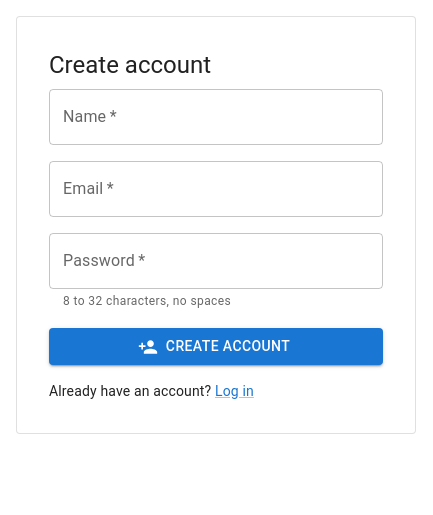
CreatePage › shows the conflict message when the email is taken
The width and height of the screenshot is (433, 515).
Type "Ada" into the field with test id "create-name" at (216, 117), box [49,89,383,145]
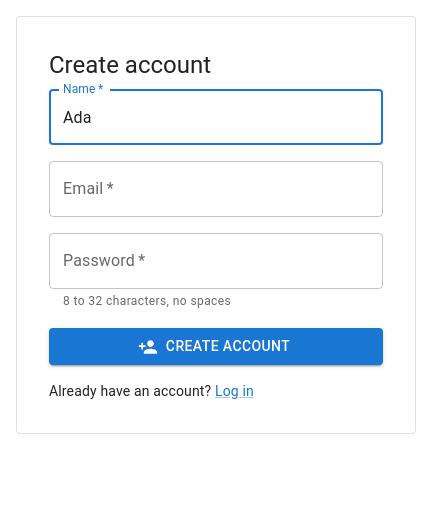
Type "ada@example.com" into the field with test id "create-email" at (216, 189), box [49,161,383,217]
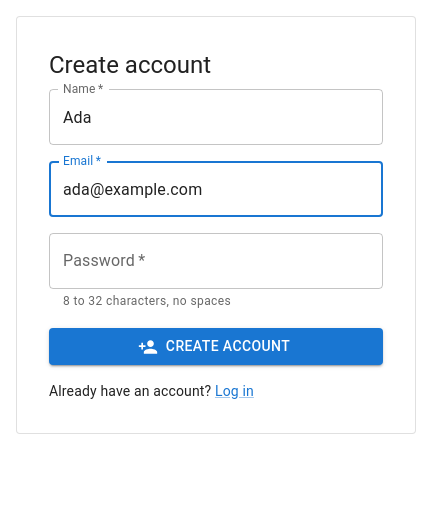
Type "secret123" into the password field with test id "create-password" at (216, 261), box [49,233,383,289]
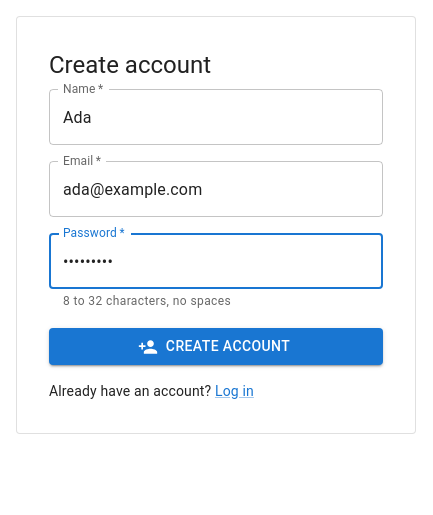
Click the button with test id "create-submit" at (216, 347), box [49,328,383,365]
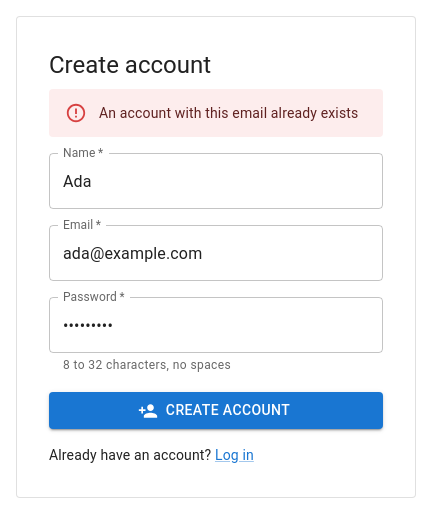
Check: the message with test id "create-error" reads "An account with this email already exists", box [99,105,358,121]
